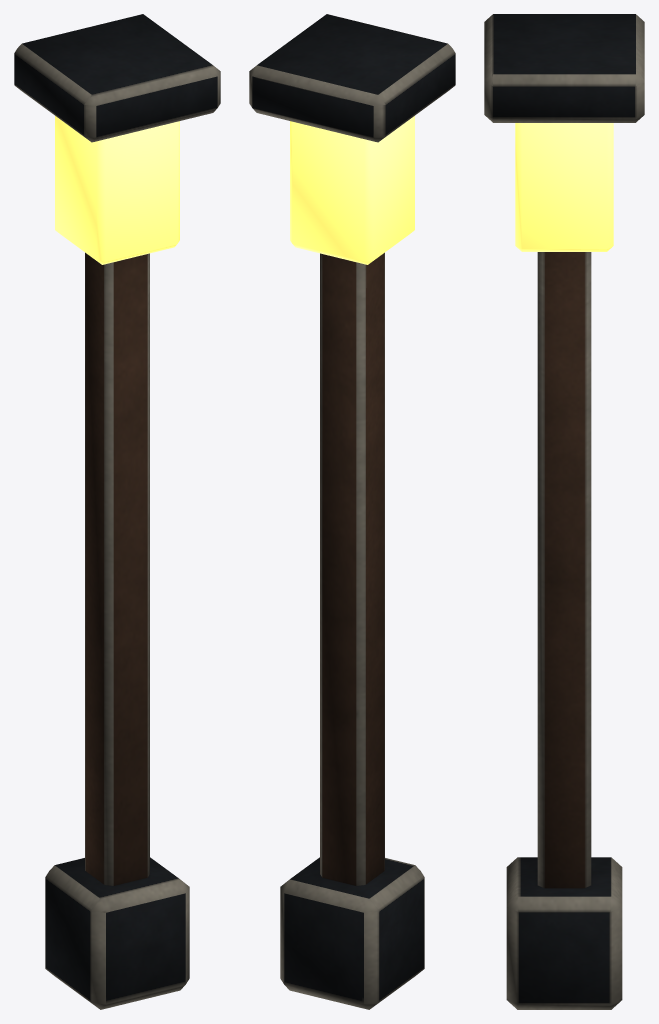
The model's file is iron_lantern.glb.
The picture shows the model from 3 angles, left to right: view 1: azimuth 30°, elevation 25°; view 2: azimuth 150°, elevation 25°; view 3: azimuth 270°, elevation 25°; orthographic projection.
Parts seen in each view (by area): view 1: IronLantern, LanternGlassGlow; view 2: IronLantern, LanternGlassGlow; view 3: IronLantern, LanternGlassGlow.
Boxes of the visible parts, box(x1,y1,x2,y2) form: IronLantern: box(14, 14, 220, 1009); LanternGlassGlow: box(55, 116, 179, 264); IronLantern: box(249, 14, 455, 1009); LanternGlassGlow: box(290, 116, 414, 264); IronLantern: box(484, 14, 644, 1009); LanternGlassGlow: box(515, 123, 613, 251).
Bounding box in the file's own units: 0.36 × 2.34 × 0.36.
2 materials, 1 textured.
